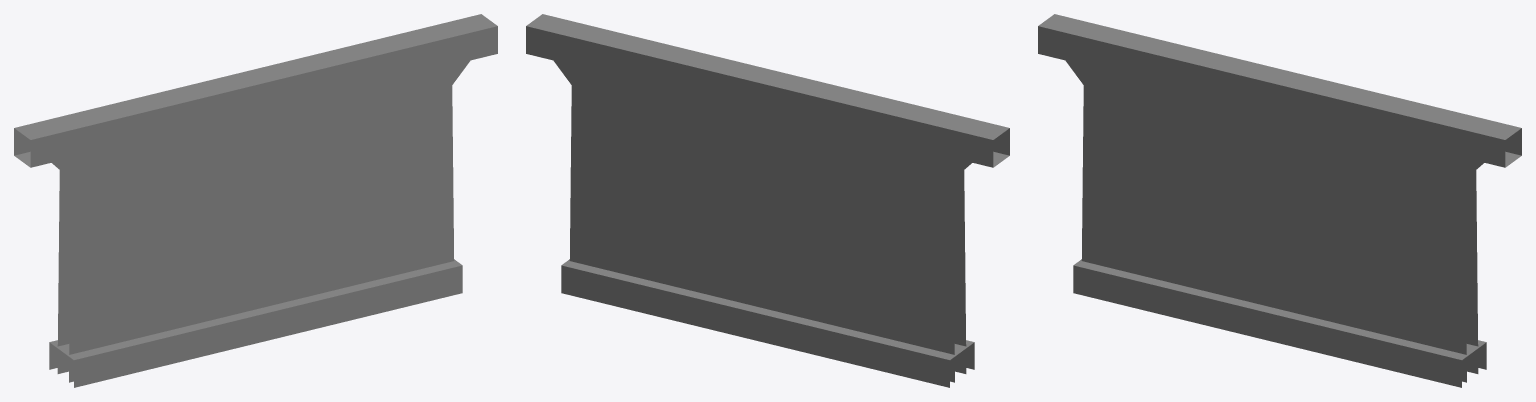
File: Dungeon Arc Wall 01.FBX
The picture shows the model from 3 angles, left to right: view 1: azimuth 30°, elevation 25°; view 2: azimuth 150°, elevation 25°; view 3: azimuth 330°, elevation 25°; orthographic projection.
Parts seen in each view (by area): view 1: Dungeon Arc Wall 01; view 2: Dungeon Arc Wall 01; view 3: Dungeon Arc Wall 01.
Part boxes in pixels (x1,y1,x2,y2): Dungeon Arc Wall 01: [14, 14, 497, 387]; Dungeon Arc Wall 01: [526, 14, 1009, 387]; Dungeon Arc Wall 01: [1038, 14, 1521, 387].
Size of the model in its own units: 525 by 273 by 48.01.
